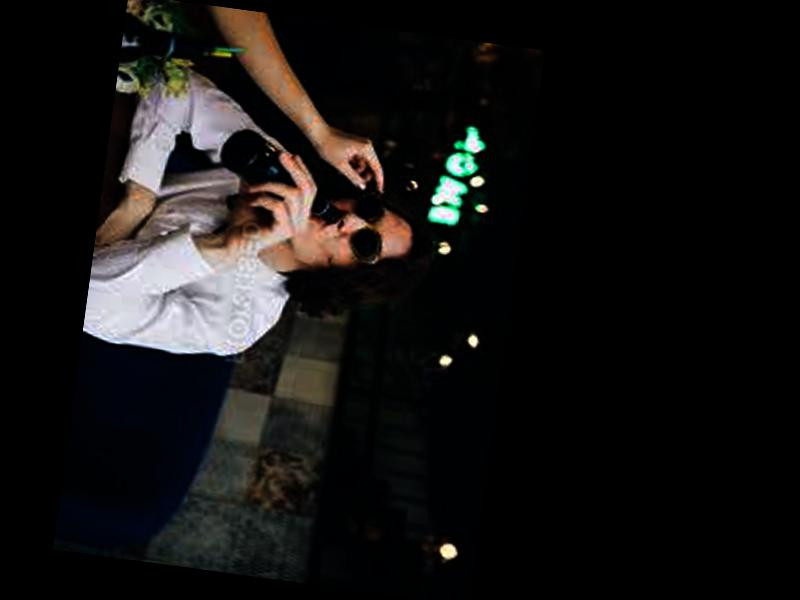Beer: (210, 123, 349, 223)
